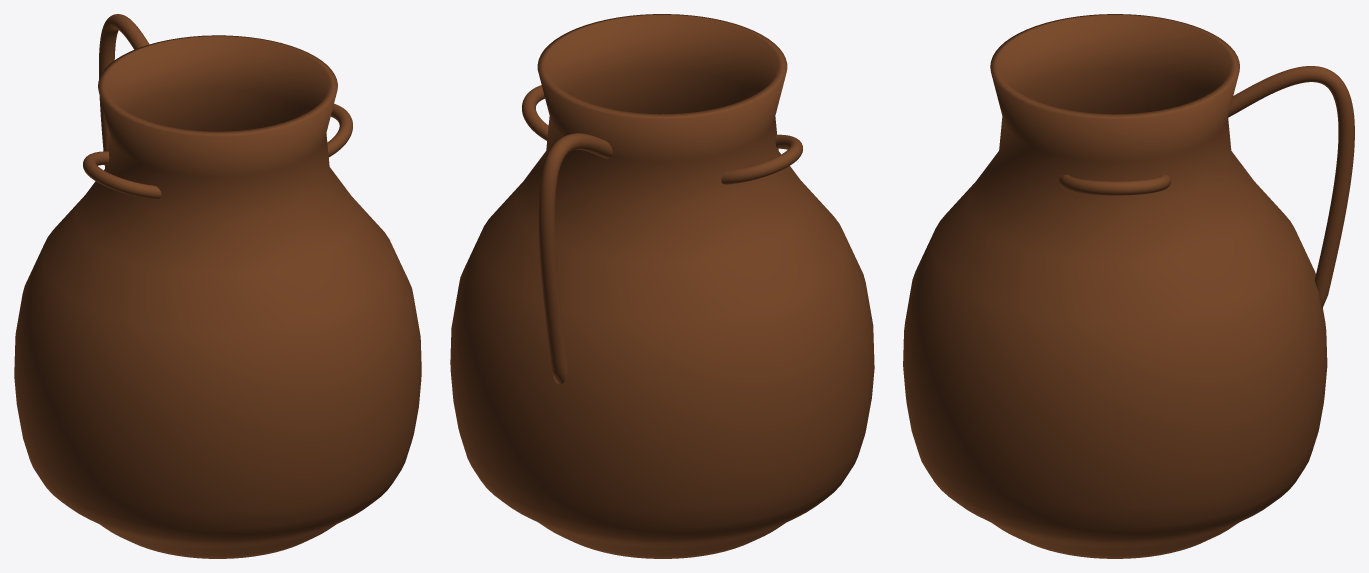
The model's file is MediumVase3Handle.fbx.
The picture shows the model from 3 angles, left to right: view 1: azimuth 30°, elevation 25°; view 2: azimuth 150°, elevation 25°; view 3: azimuth 270°, elevation 25°; orthographic projection. The views are drawn at different scales.
Visible parts, largest first — view 1: Sphere, Torus, BezierCurve; view 2: Sphere, BezierCurve, Torus; view 3: Sphere, BezierCurve, Torus.
Part boxes in pixels (box(x1,y1,x2,y2)): Sphere: box(14, 35, 421, 558); Torus: box(83, 103, 352, 199); BezierCurve: box(99, 14, 167, 168); Sphere: box(450, 14, 874, 558); BezierCurve: box(538, 133, 612, 384); Torus: box(522, 85, 802, 184); Sphere: box(903, 14, 1327, 558); BezierCurve: box(1227, 66, 1354, 308); Torus: box(1059, 174, 1171, 195).
Bounding box in the file's own units: 196 × 229 × 209.
